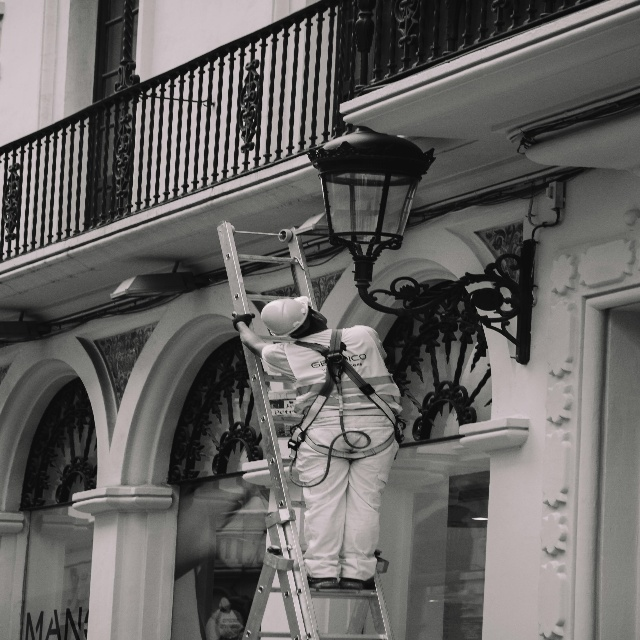Guantes: (231, 308, 255, 333)
